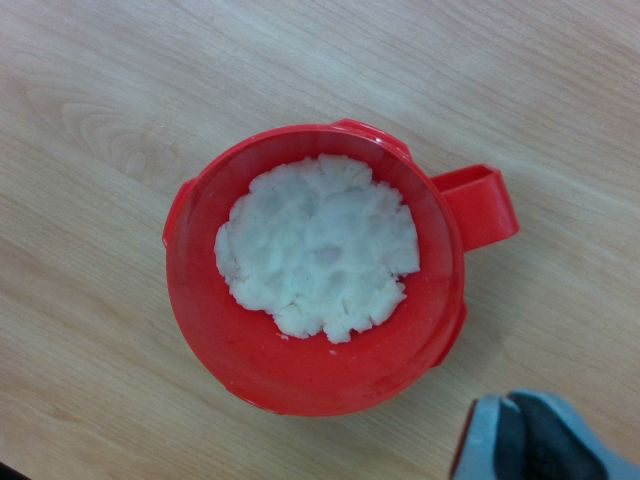mashed_potato: (212, 155, 419, 342)
